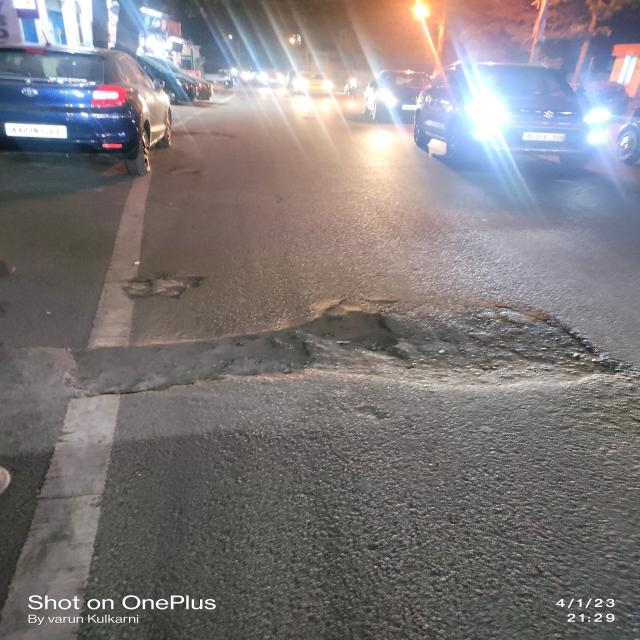potholes: (53, 291, 625, 408)
